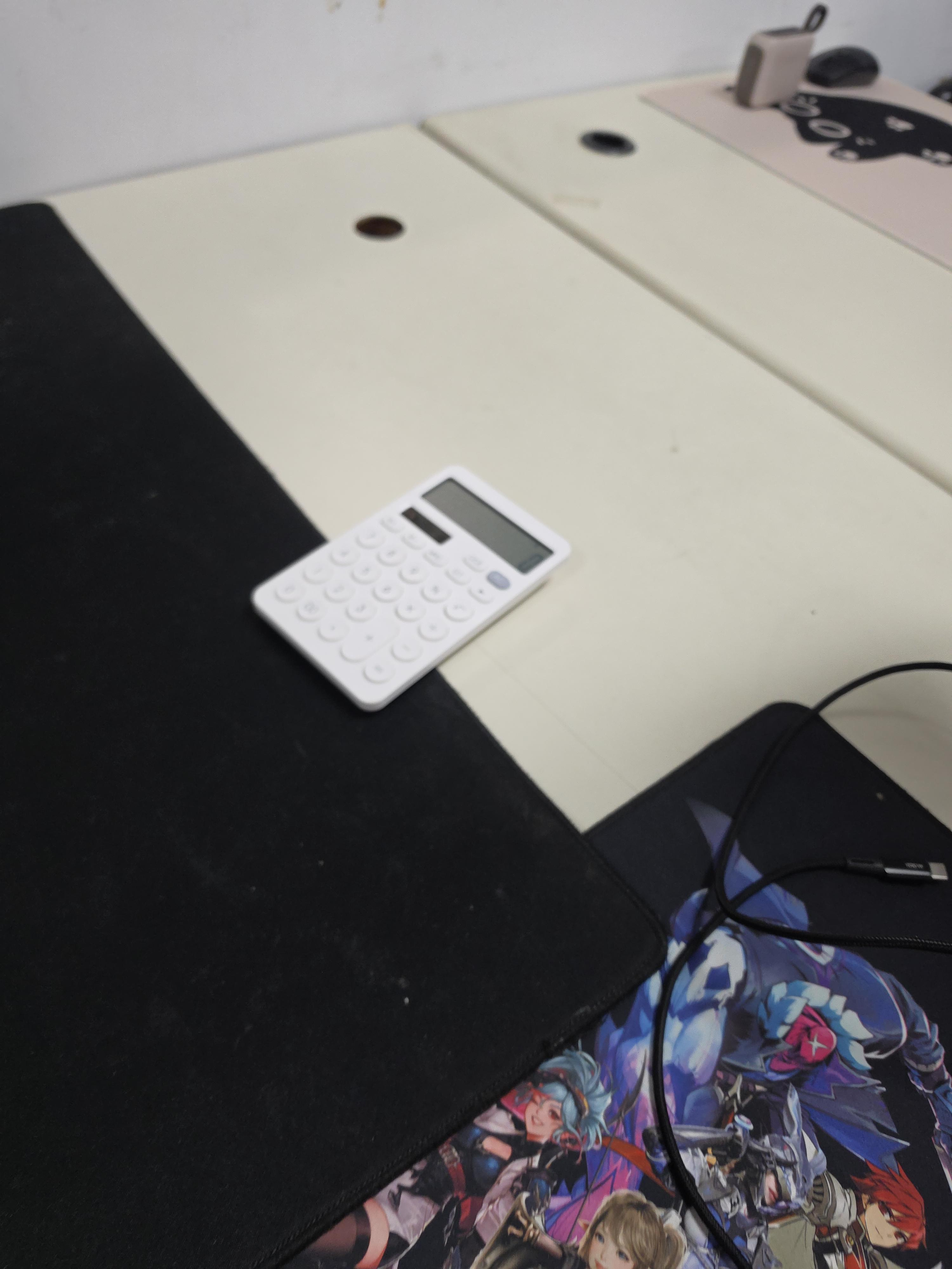calculator: (248, 465, 573, 711)
